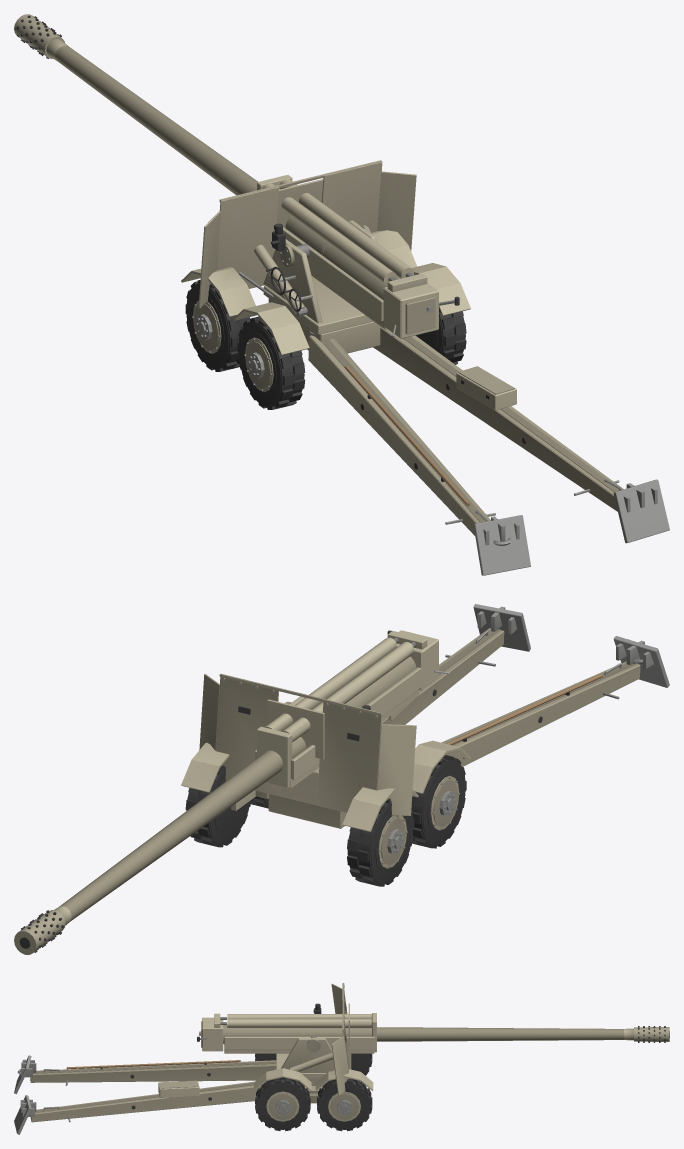
The model's file is rus_tow_giats.glb.
The picture shows the model from 3 angles, top to bottom: view 1: azimuth 30°, elevation 25°; view 2: azimuth 150°, elevation 25°; view 3: azimuth 270°, elevation 25°; orthographic projection. The views are drawn at different scales.
Parts seen in each view (by area): view 1: body, barrel, turret, wheel_1, wheel_0, wheel_3; view 2: barrel, body, turret, wheel_0, wheel_1, wheel_2; view 3: body, barrel, turret, wheel_3, wheel_2, wheel_0.
Part boxes in pixels (x1,y1,x2,y2): body: (181, 230, 669, 575); barrel: (14, 14, 459, 338); turret: (198, 160, 416, 334); wheel_1: (237, 316, 305, 409); wheel_0: (185, 280, 249, 371); wheel_3: (416, 308, 466, 364); barrel: (14, 630, 450, 954); body: (181, 604, 669, 831); turret: (199, 673, 416, 815); wheel_0: (347, 798, 414, 886); wheel_1: (411, 755, 466, 848); wheel_2: (185, 765, 251, 847); body: (14, 1055, 373, 1134); barrel: (197, 1003, 669, 1053); turret: (276, 983, 351, 1095); wheel_3: (255, 1077, 310, 1131); wheel_2: (317, 1078, 372, 1131); wheel_0: (351, 1053, 372, 1075).
Size of the model in its own units: 2.9 by 2.25 by 13.1.
